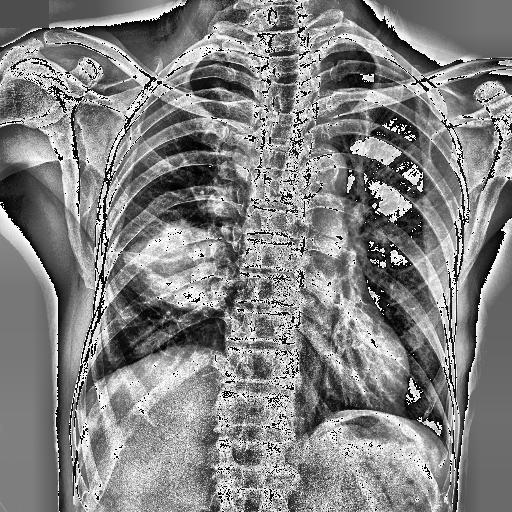8- Nodule-Mass: (127, 227, 236, 320), (127, 231, 241, 317)
